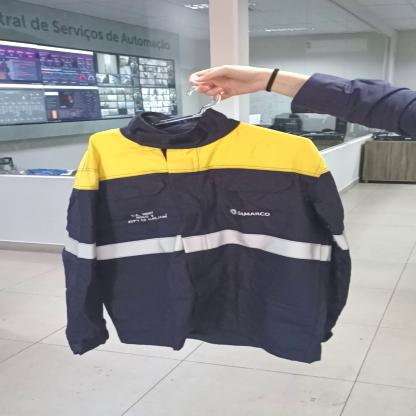C_eletrica: (55, 116, 349, 370)
